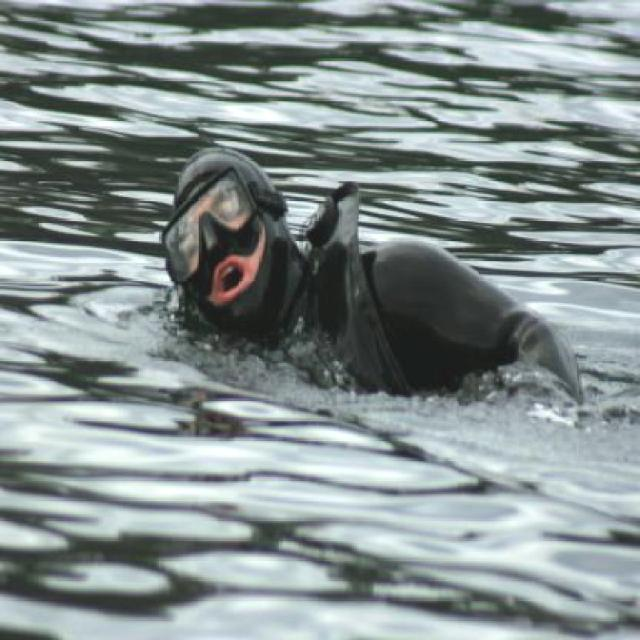glasses: (157, 162, 265, 296)
